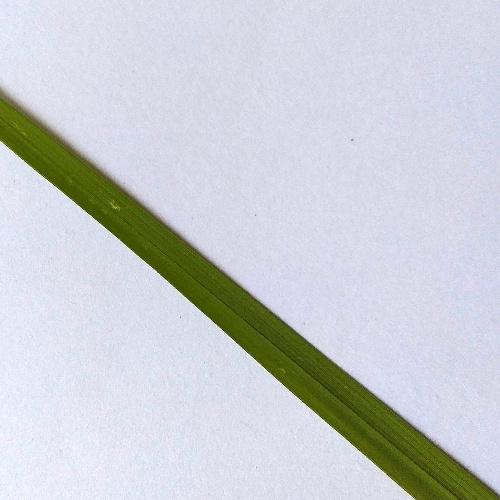Hawar Daun: (108, 196, 120, 210)
